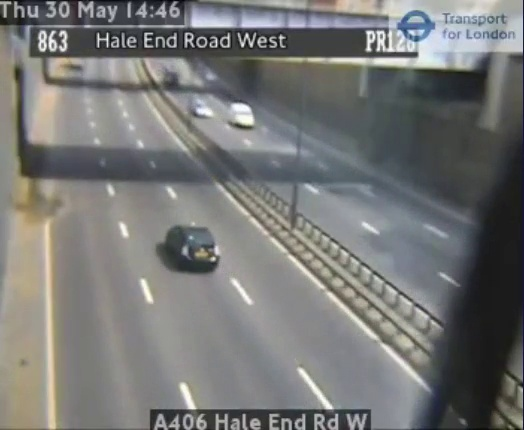car: (168, 226, 219, 270)
